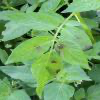Potato leaf late blight: (31, 52, 64, 99), (53, 36, 94, 70), (8, 35, 53, 61), (58, 25, 96, 52)
